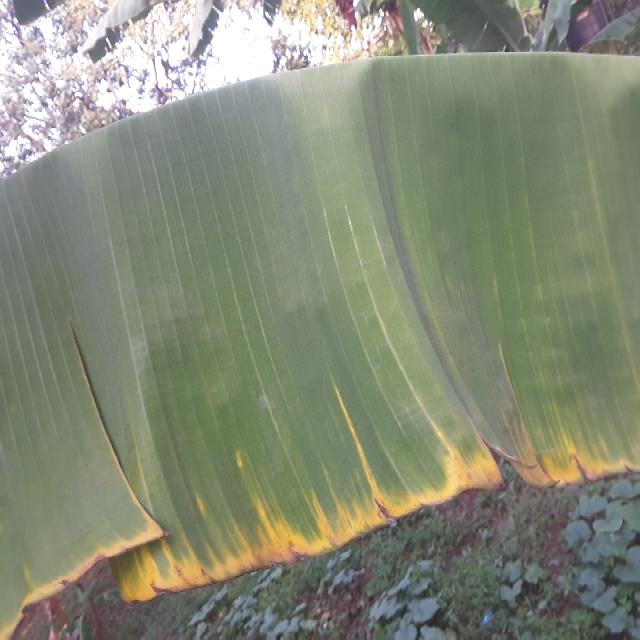Cordana: (4, 353, 640, 640)
